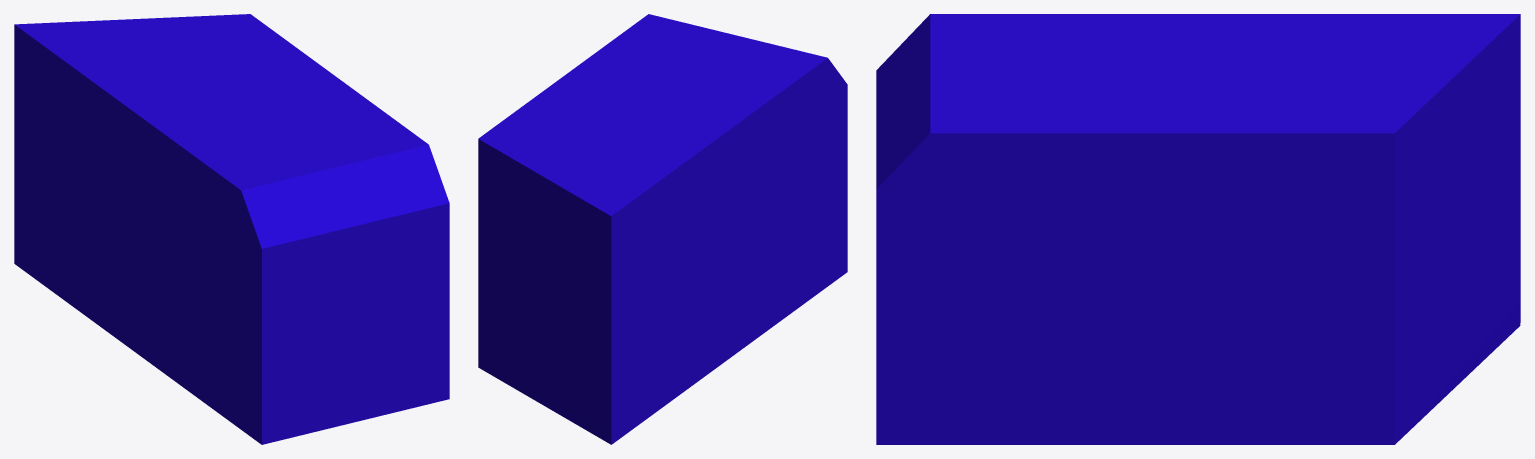
The model's file is simple_example_hole_part_8.obj.
The picture shows the model from 3 angles, left to right: view 1: azimuth 30°, elevation 25°; view 2: azimuth 150°, elevation 25°; view 3: azimuth 270°, elevation 25°; orthographic projection. The views are drawn at different scales.
Bounding box in the file's own units: 10.02 × 12.21 × 22.89.
